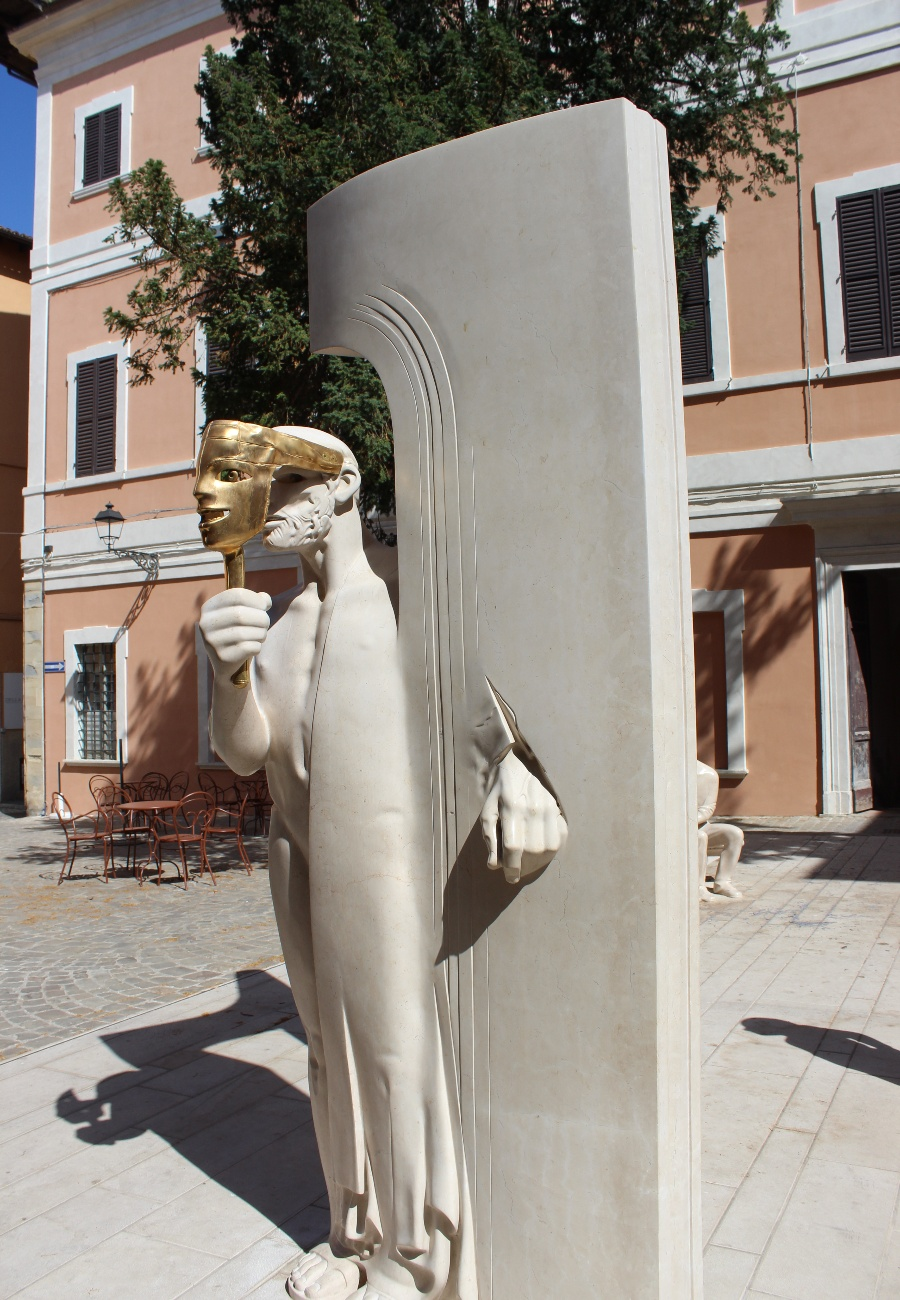Scultura della Memoria: (188, 413, 574, 1300)
